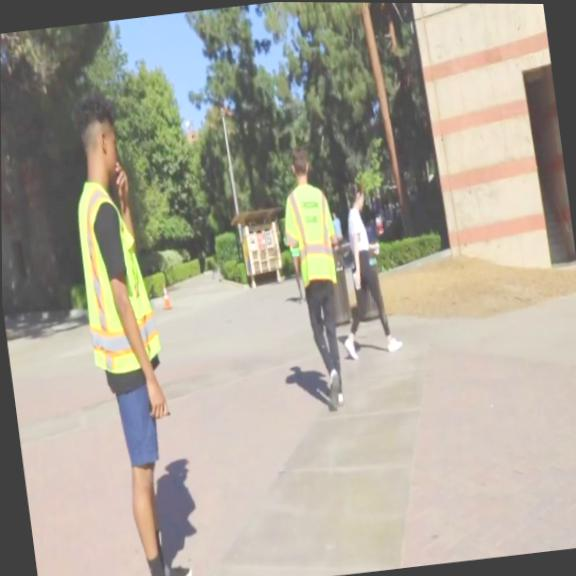safety_vest: (68, 168, 164, 376), (277, 179, 342, 292)
